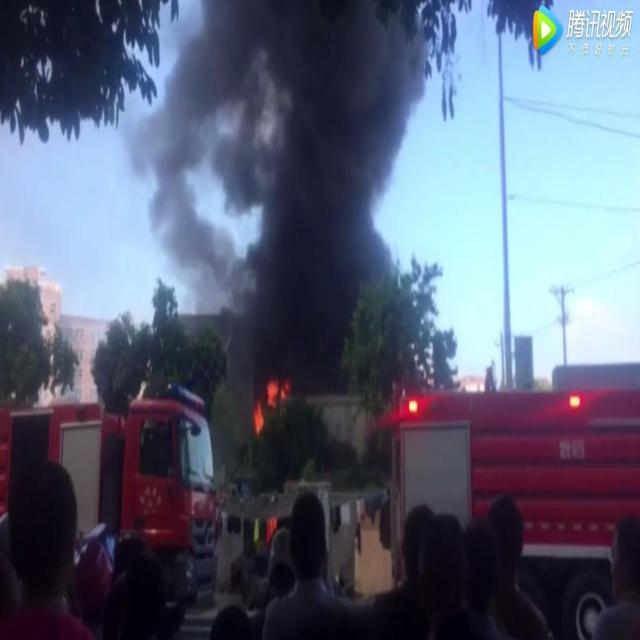fire: (251, 372, 290, 433)
smoke: (125, 2, 431, 190), (166, 196, 400, 378)
